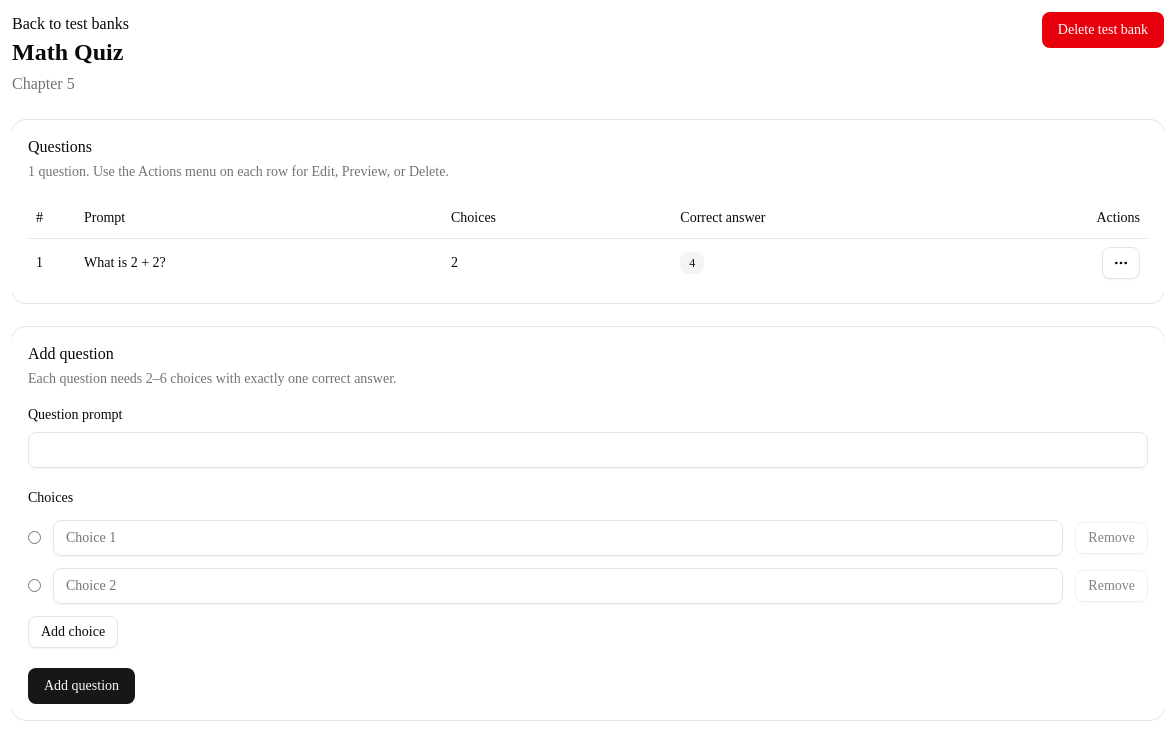
Test: question menu actions › shows Edit, Preview, and Delete in the question menu
Click the button named "actions for question 1".
click(1121, 262)  # box [1102,246,1140,278]
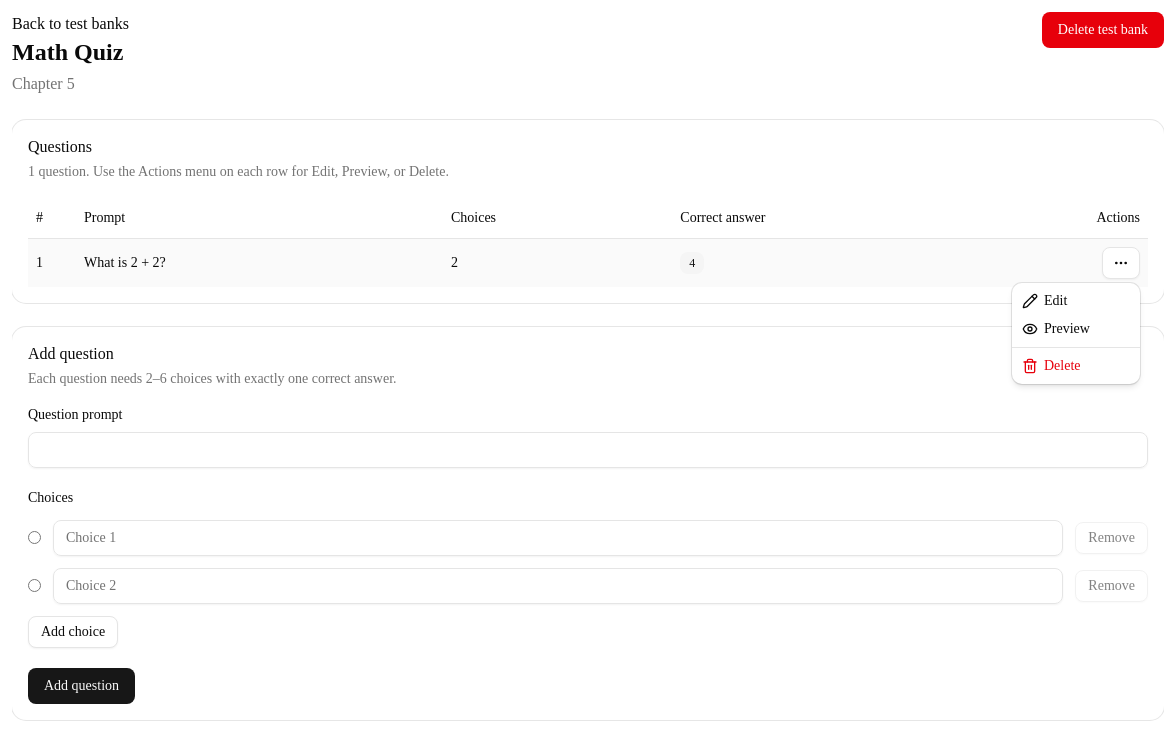
expect the menu item "Edit" is shown: met, box [1022,293,1067,309]
expect the menu item "Preview" is shown: met, box [1022,321,1090,337]
expect the menu item "Delete" is shown: met, box [1022,358,1080,374]
